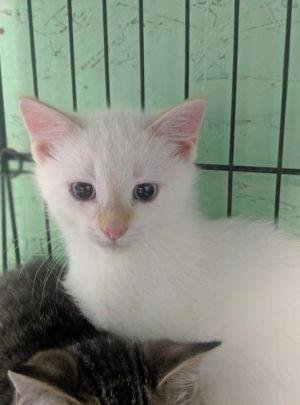siamese: (17, 80, 209, 268)
